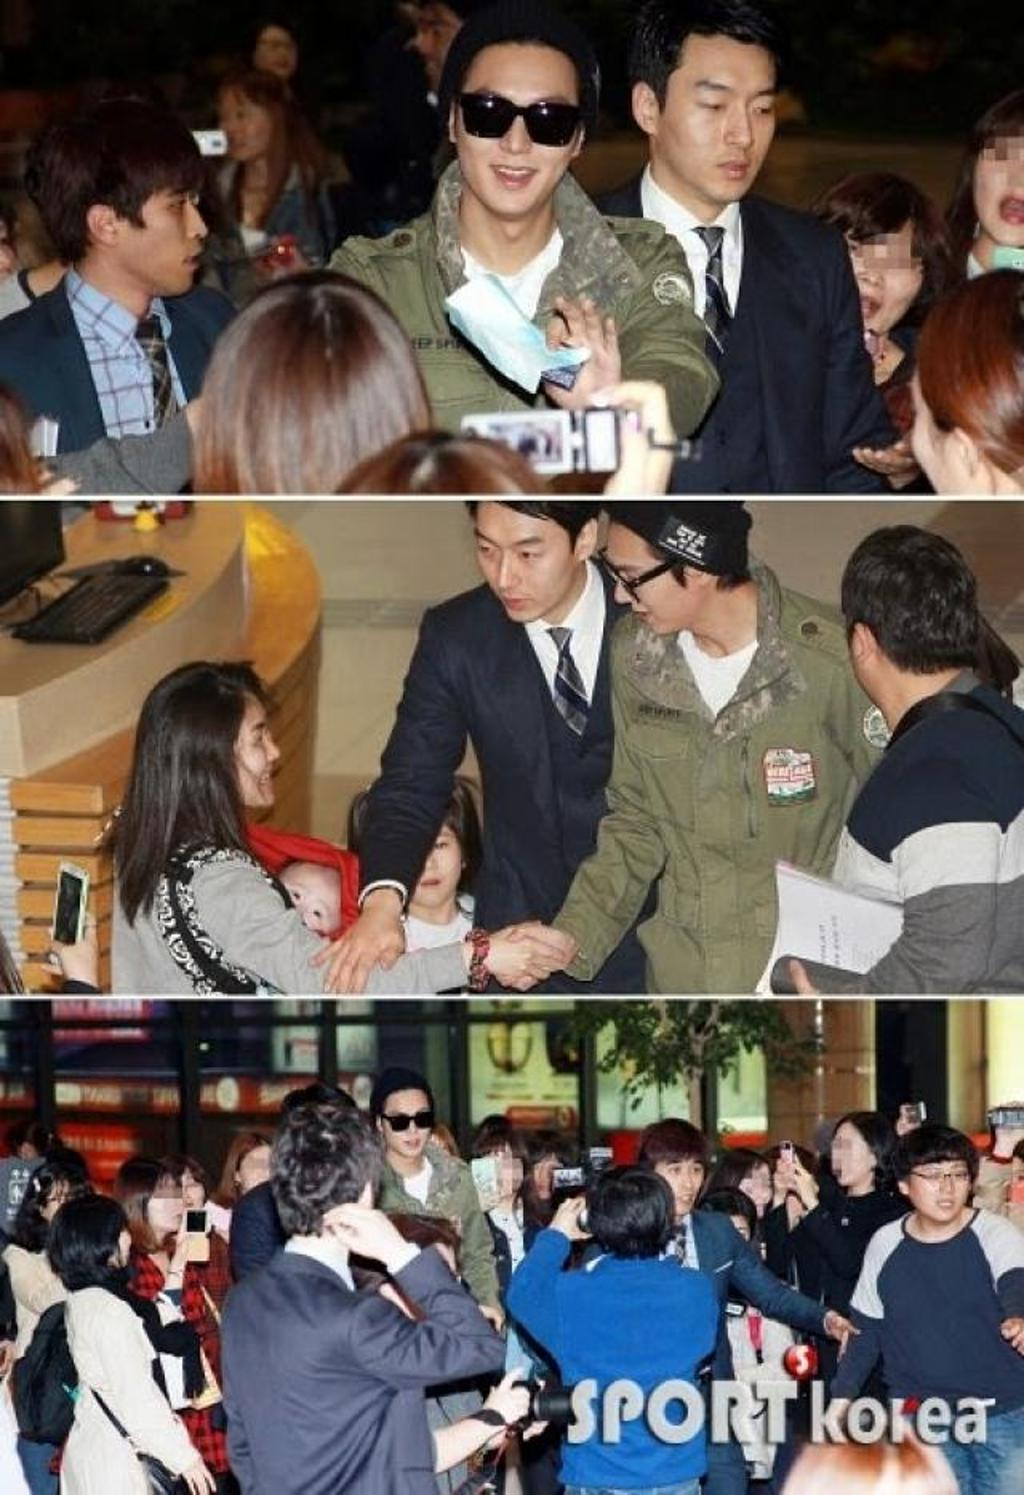face: (459, 61, 576, 215), (665, 55, 774, 201), (833, 219, 919, 338), (476, 512, 569, 622), (132, 189, 208, 295), (418, 5, 489, 97), (606, 536, 668, 634), (972, 138, 1023, 249), (273, 864, 342, 942), (398, 823, 460, 906), (238, 699, 278, 806), (221, 93, 272, 160), (911, 1162, 968, 1221), (388, 1098, 434, 1159), (832, 1124, 866, 1186), (483, 1147, 522, 1197), (258, 30, 296, 77), (712, 1213, 748, 1261), (740, 1164, 771, 1219), (670, 1161, 699, 1213), (992, 1162, 1024, 1203), (534, 1154, 565, 1196), (42, 1182, 72, 1224), (109, 1218, 132, 1271), (153, 1188, 182, 1229), (239, 1151, 265, 1186), (183, 1179, 203, 1208)
